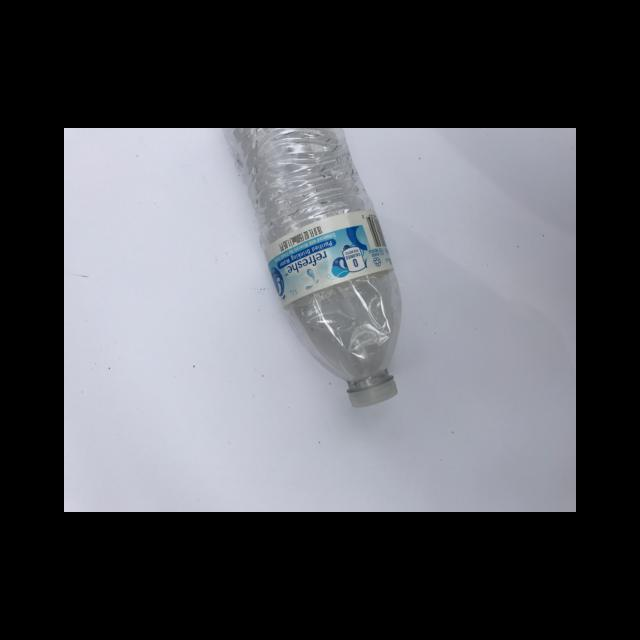plastic: (223, 128, 399, 403), (263, 207, 394, 306), (347, 369, 397, 405)
